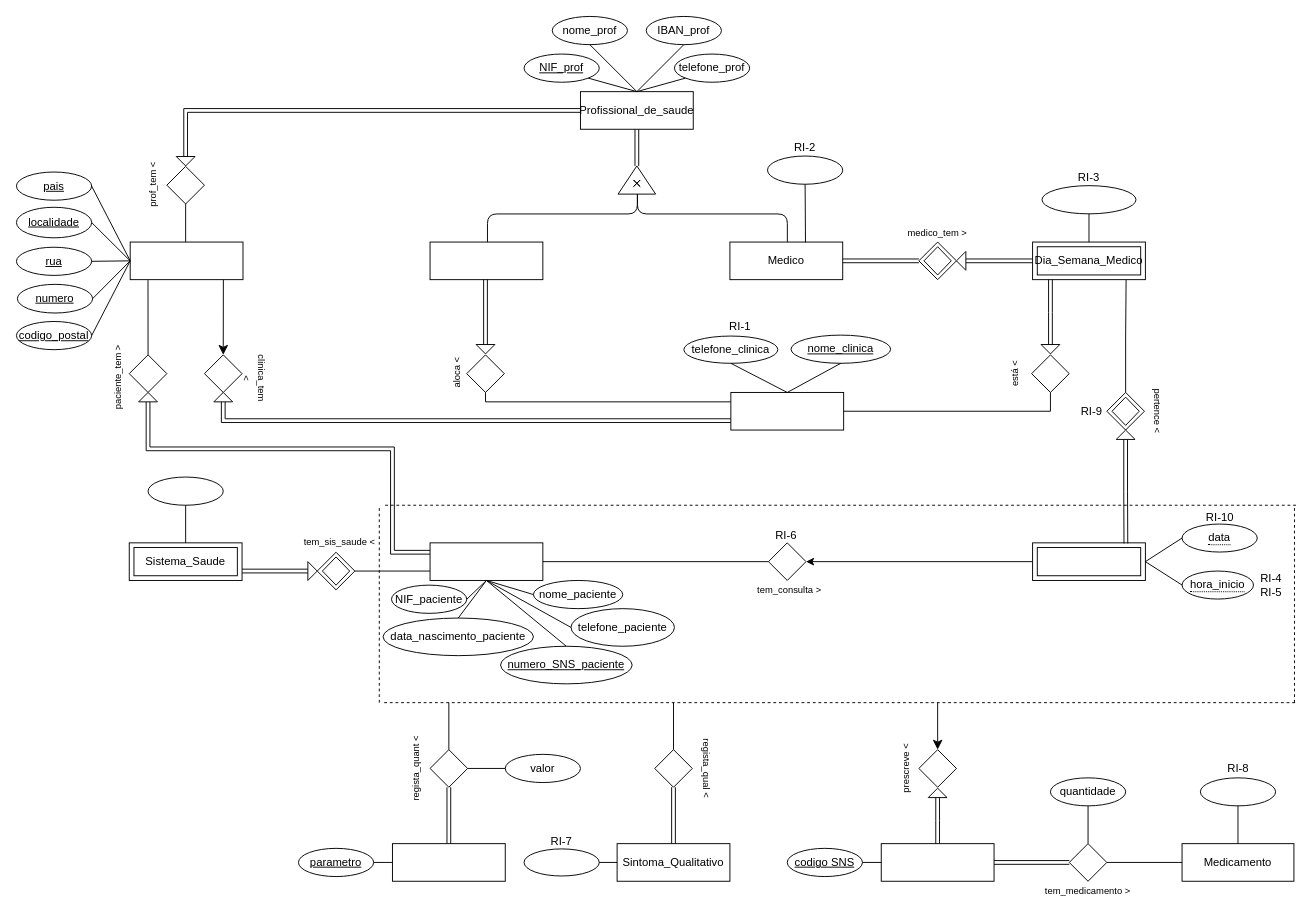
Some shapes in this 1314 by 917 pixel diagram are drawn without their labels. The shapes that lost their labels are listed below. From the top down, each one's box as (x1, y1, x2, y2) in pixels, then its label:
(767, 155, 843, 184): especialidade
(1041, 185, 1136, 214): dia_da_semana
(129, 241, 243, 280): Morada
(429, 241, 543, 280): Enfermeiro
(730, 392, 844, 430): Clinica
(147, 476, 223, 505): nome_sis
(429, 542, 543, 580): Paciente
(1032, 542, 1145, 580): Slot_Medico
(1199, 777, 1276, 806): nome_med
(392, 843, 505, 881): Sintoma_Quantitativo
(523, 848, 599, 876): nome_qual
(880, 843, 994, 881): Receita
